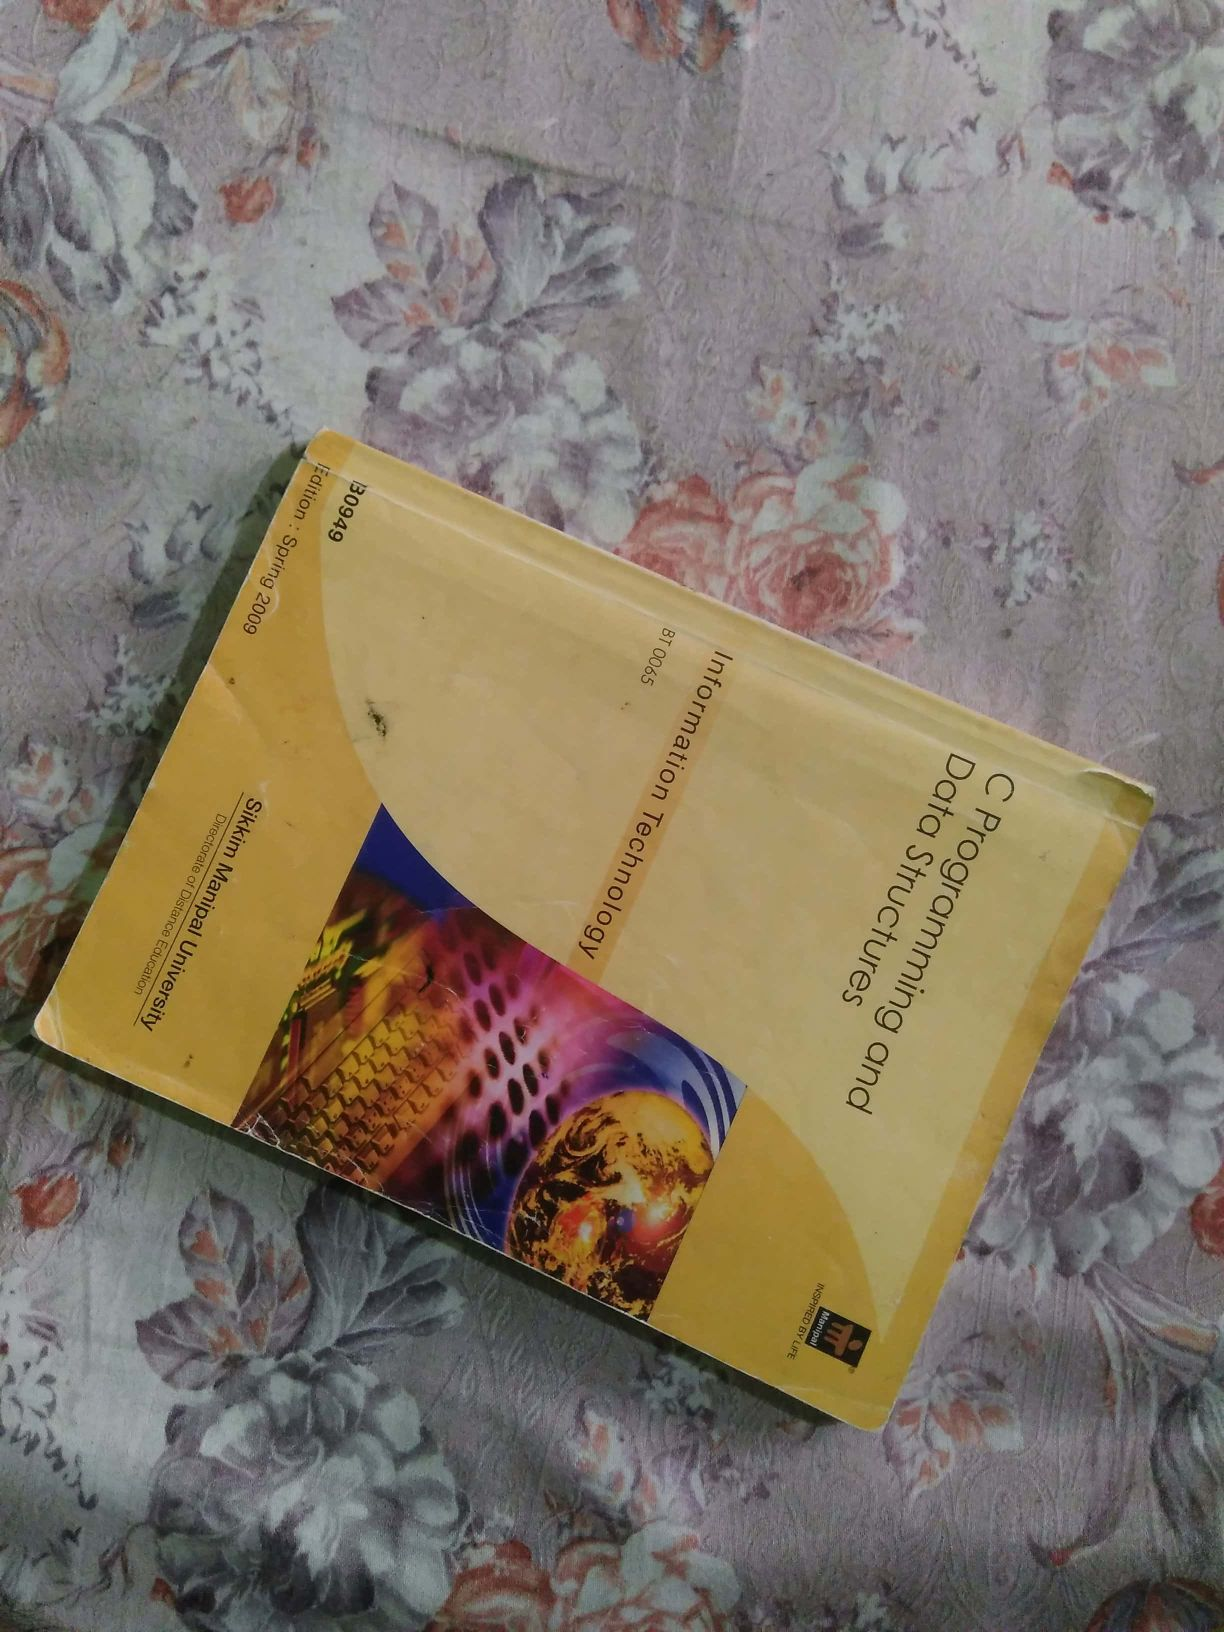clang: (49, 448, 1191, 1446)
